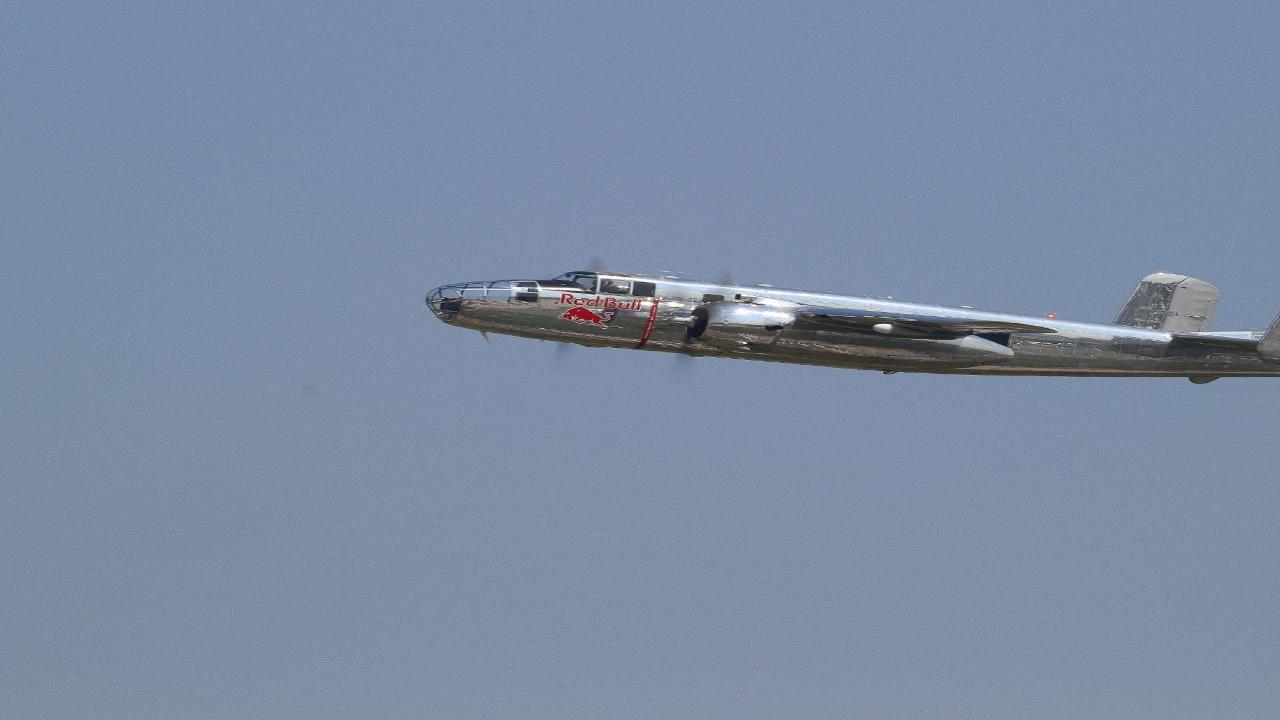Airplane: (392, 251, 1280, 395)
